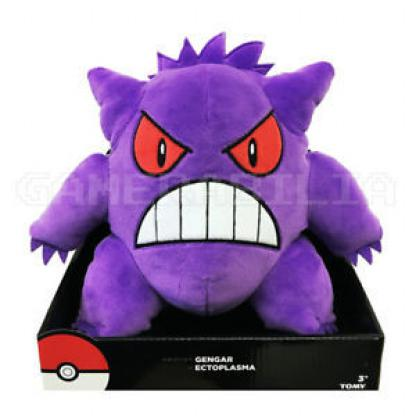Gengar: (45, 43, 391, 344)
